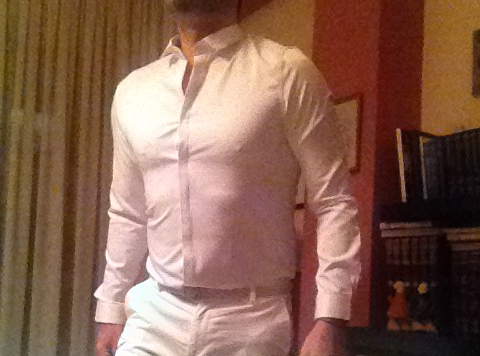shirts: (106, 34, 365, 320)
